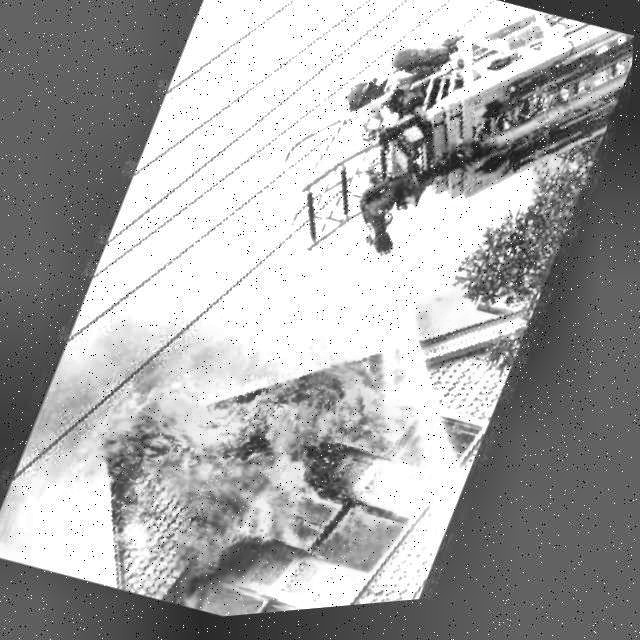Fire: (43, 292, 463, 635)
